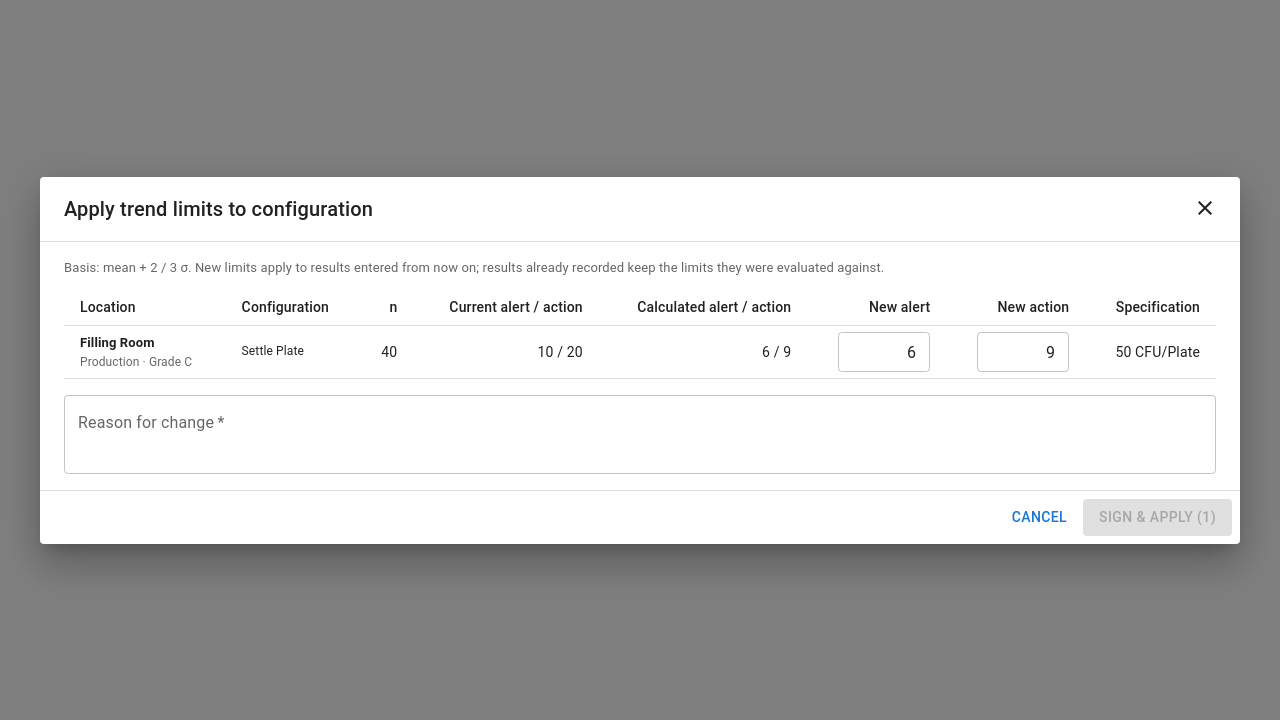
Test: ApplyLimitsDialog › prefills the calculated limits and needs a reason before signing
Expected: the field named "New alert limit for Filling Room" holds "6", top-left (838, 332), bottom-right (930, 372)
Expected: the field named "New action limit for Filling Room" holds "9", top-left (977, 332), bottom-right (1069, 372)
Type "Annual review" into the text box labelled "Reason for change *" at (640, 434), box top-left (78, 412), bottom-right (1202, 458)
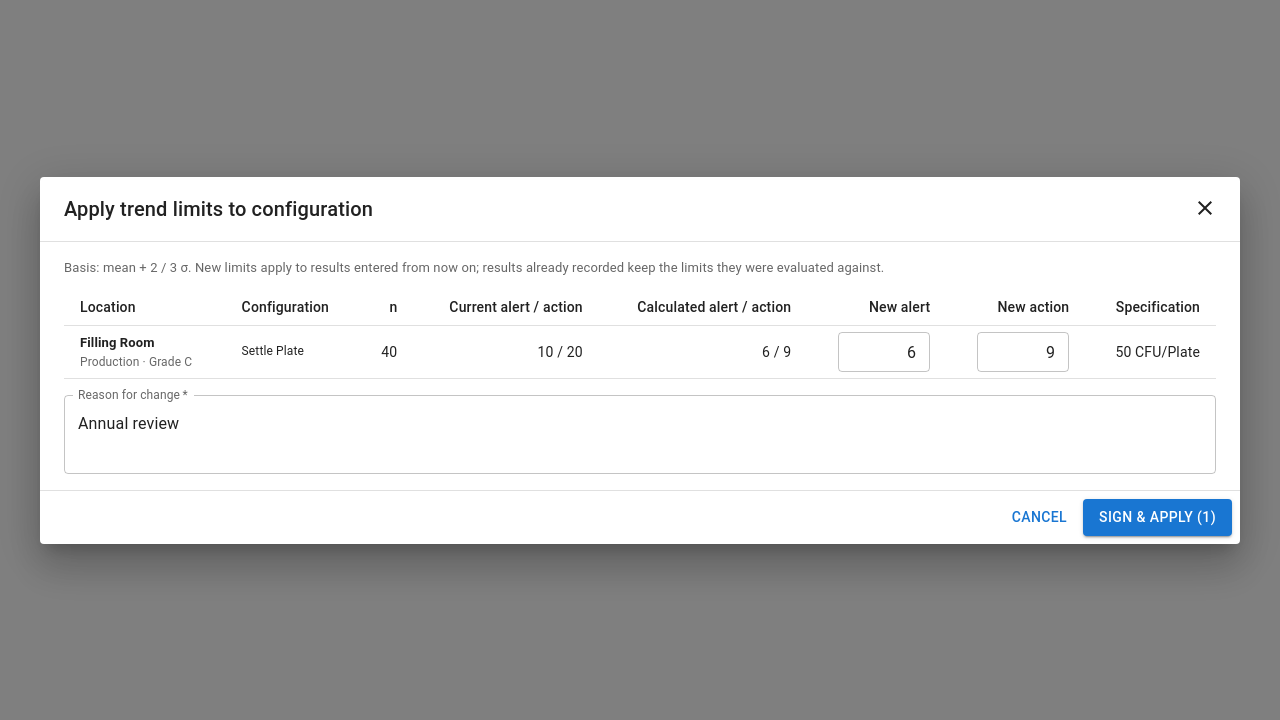
Expected: the button "Sign & apply (1)" is enabled, top-left (1083, 499), bottom-right (1232, 536)
